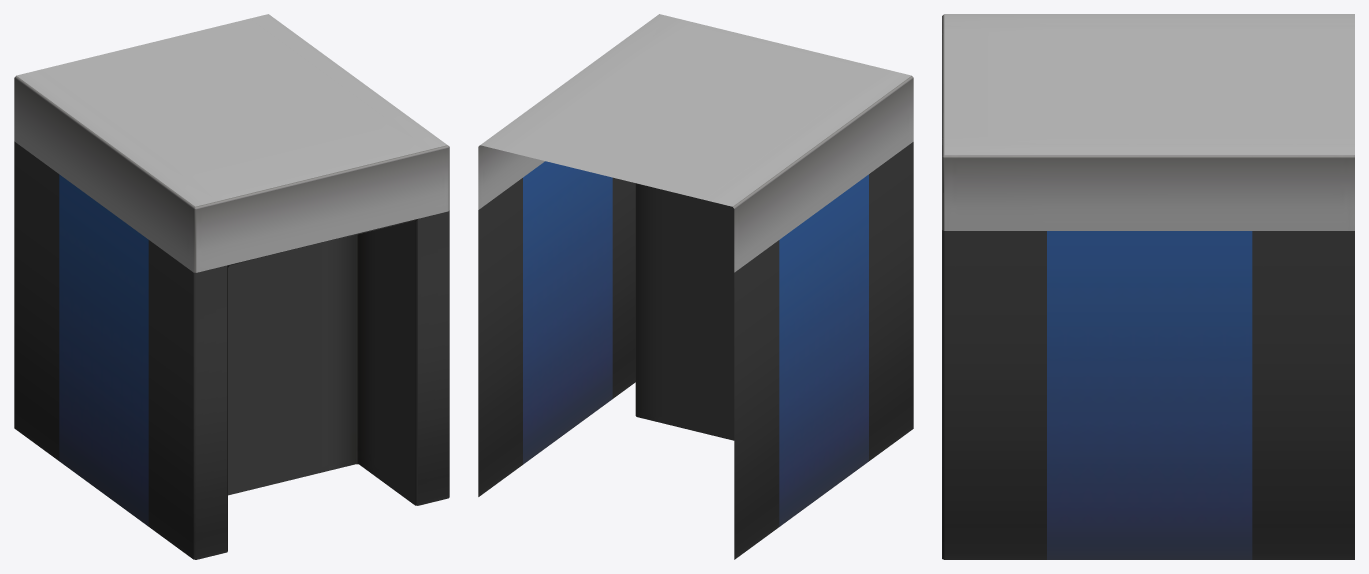
File: Paper Conveyor.fbx
3 renders of one model, left to right at view 1: azimuth 30°, elevation 25°; view 2: azimuth 150°, elevation 25°; view 3: azimuth 270°, elevation 25°, orthographic. The views are drawn at different scales.
Parts seen in each view (by area): view 1: Paper Conveyor; view 2: Paper Conveyor; view 3: Paper Conveyor.
Part boxes in pixels (x1,y1,x2,y2): Paper Conveyor: (14,14,449,559); Paper Conveyor: (478,14,913,559); Paper Conveyor: (942,14,1354,559).
Size of the model in its own units: 615 by 809 by 750.
